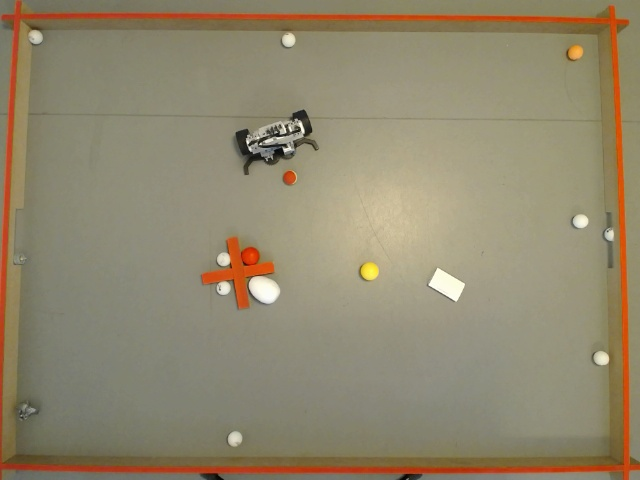big_goal: (13, 209, 22, 264), (606, 212, 612, 267)
cross: (198, 236, 273, 309)
egg: (250, 275, 278, 302)
orange: (567, 45, 582, 57)
robot: (236, 108, 320, 170)
wall: (16, 27, 608, 453)
white: (28, 30, 42, 45), (282, 33, 294, 47), (228, 429, 238, 443), (574, 216, 586, 225), (597, 351, 604, 363), (218, 254, 226, 263), (218, 282, 226, 291), (606, 227, 612, 237)
